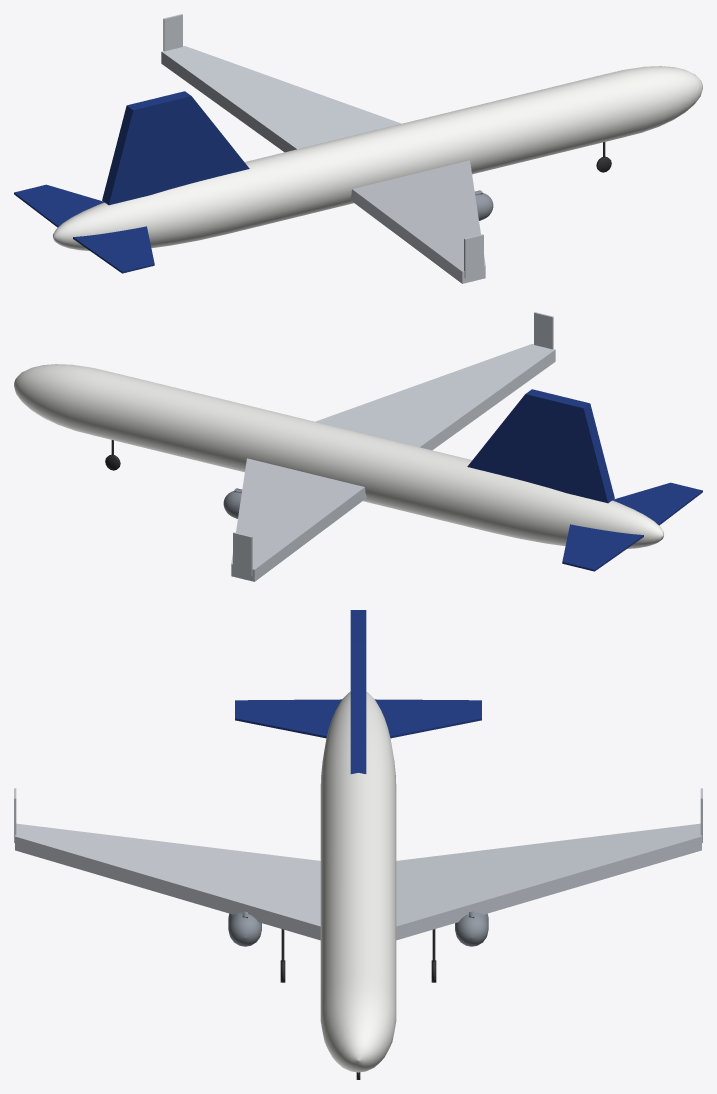
3 renders of one model, top to bottom at view 1: azimuth 30°, elevation 25°; view 2: azimuth 150°, elevation 25°; view 3: azimuth 270°, elevation 25°, orthographic. The views are drawn at different scales.
Visible parts, largest first — view 1: fuselage, wings, tail; view 2: fuselage, wings, tail; view 3: wings, fuselage, tail, engines.
Boxes of the visible parts, left/top/right/bottom form: fuselage: left=53, top=66, right=702, bottom=250; wings: left=161, top=14, right=485, bottom=283; tail: left=14, top=91, right=249, bottom=273; fuselage: left=14, top=364, right=663, bottom=548; wings: left=231, top=312, right=555, bottom=581; tail: left=467, top=389, right=702, bottom=571; wings: left=14, top=788, right=702, bottom=940; fuselage: left=320, top=691, right=396, bottom=1072; tail: left=235, top=610, right=481, bottom=773; engines: left=228, top=911, right=488, bottom=946.
Size of the model in its own units: 44.5 by 11.79 by 35.92.
